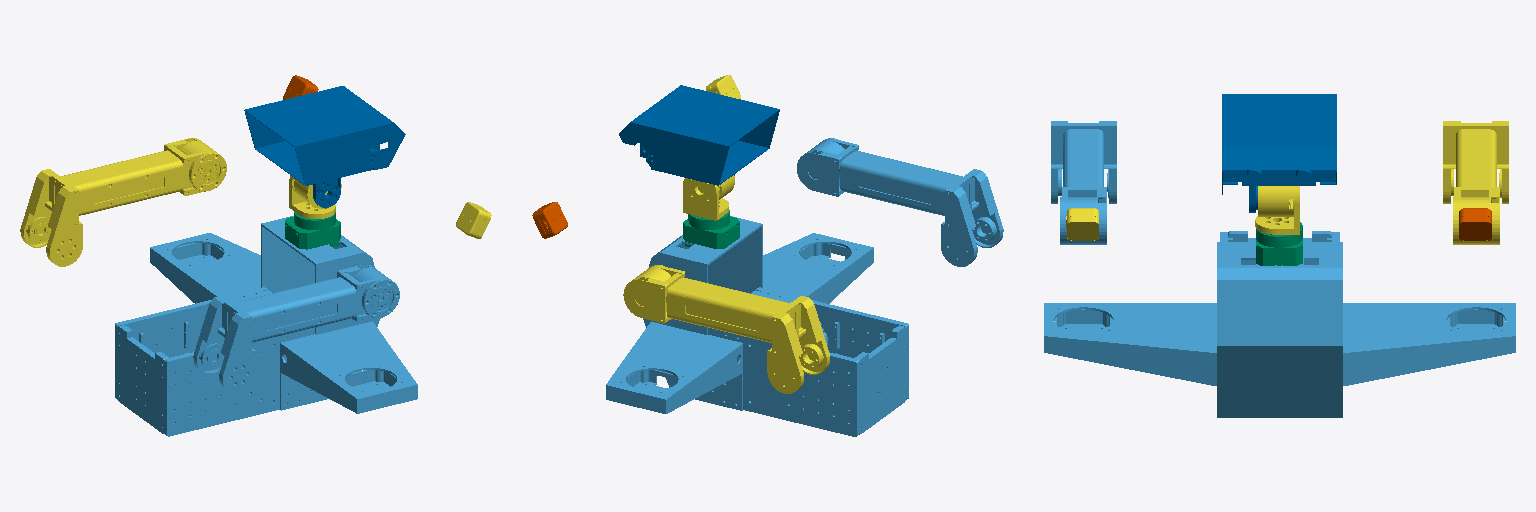
The robot description file, URDF, robot "arx_lift":
<?xml version="1.0" ?>
<!-- =================================================================================== -->
<!-- |    This document was autogenerated by xacro from robot.xacro                    | -->
<!-- |    EDITING THIS FILE BY HAND IS NOT RECOMMENDED                                 | -->
<!-- =================================================================================== -->
<robot name="arx_lift">
  <link name="left_base_link">
    <inertial>
      <origin xyz="-0.00013359 6.672E-05 0.031672"/>
      <mass value="0.42272"/>
      <inertia ixx="0.00019" ixy="0.00000" ixz="0.00000" iyy="0.00019" iyz="0.00000" izz="0.00020"/>
    </inertial>
    <visual>
      <geometry>
        <mesh filename="package://arx5_description/meshes/r5/base_link.obj"/>
      </geometry>
    </visual>
    <collision>
      <geometry>
        <mesh filename="package://arx5_description/meshes/r5/base_link.obj"/>
      </geometry>
    </collision>
  </link>
  <link name="left_link1">
    <inertial>
      <origin xyz="0.0050395 -0.0077407 0.020897"/>
      <mass value="0.096804"/>
      <inertia ixx="0.00011" ixy="-0.00001" ixz="0.00001" iyy="0.00005" iyz="-0.00001" izz="0.00010"/>
    </inertial>
    <visual>
      <geometry>
        <mesh filename="package://arx5_description/meshes/r5/link1.obj"/>
      </geometry>
    </visual>
    <collision>
      <geometry>
        <mesh filename="package://arx5_description/meshes/r5/link1.obj"/>
      </geometry>
    </collision>
  </link>
  <joint name="left_joint1" type="revolute">
    <origin xyz="0 0 0.0565"/>
    <parent link="left_base_link"/>
    <child link="left_link1"/>
    <axis xyz="0 0 1"/>
    <limit effort="100" lower="-2.618" upper="2.168" velocity="5"/>
  </joint>
  <link name="left_link2">
    <inertial>
      <origin xyz="-0.12992 -0.0011822 -2.6366E-05"/>
      <mass value="1.1988"/>
      <inertia ixx="0.00065" ixy="0.00008" ixz="0.00000" iyy="0.01647" iyz="0.00000" izz="0.01646"/>
    </inertial>
    <visual>
      <geometry>
        <mesh filename="package://arx5_description/meshes/r5/link2.obj"/>
      </geometry>
    </visual>
    <collision>
      <geometry>
        <mesh filename="package://arx5_description/meshes/r5/link2.obj"/>
      </geometry>
    </collision>
  </link>
  <joint name="left_joint2" type="revolute">
    <origin xyz="0.02 0 0.047"/>
    <parent link="left_link1"/>
    <child link="left_link2"/>
    <axis xyz="0 1 0"/>
    <limit effort="100" lower="0" upper="3.66" velocity="5"/>
  </joint>
  <link name="left_link3">
    <inertial>
      <origin xyz="0.16181 0.0011723 -0.05455"/>
      <mass value="0.84082"/>
      <inertia ixx="0.00082" ixy="0.00008" ixz="-0.00074" iyy="0.00849" iyz="0.00001" izz="0.00834"/>
    </inertial>
    <visual>
      <geometry>
        <mesh filename="package://arx5_description/meshes/r5/link3.obj"/>
      </geometry>
    </visual>
    <collision>
      <geometry>
        <mesh filename="package://arx5_description/meshes/r5/link3.obj"/>
      </geometry>
    </collision>
  </link>
  <joint name="left_joint3" type="revolute">
    <origin rpy="-3.1416 0 0" xyz="-0.264 0 0"/>
    <parent link="left_link2"/>
    <child link="left_link3"/>
    <axis xyz="0 1 0"/>
    <limit effort="100" lower="0" upper="3.14" velocity="5"/>
  </joint>
  <link name="left_link4">
    <inertial>
      <origin xyz="0.041751 0.0054236 -0.03337"/>
      <mass value="0.12432"/>
      <inertia ixx="0.00022" ixy="-0.00002" ixz="-0.00009" iyy="0.00025" iyz="0.00002" izz="0.00017"/>
    </inertial>
    <visual>
      <geometry>
        <mesh filename="package://arx5_description/meshes/r5/link4.obj"/>
      </geometry>
    </visual>
    <collision>
      <geometry>
        <mesh filename="package://arx5_description/meshes/r5/link4.obj"/>
      </geometry>
    </collision>
  </link>
  <joint name="left_joint4" type="revolute">
    <origin xyz="0.245 -5E-05 -0.06"/>
    <parent link="left_link3"/>
    <child link="left_link4"/>
    <axis xyz="0 1 0"/>
    <limit effort="100" lower="-1.57" upper="1.57" velocity="5"/>
  </joint>
  <link name="left_link5">
    <inertial>
      <origin xyz="-8.3435E-05 -1.5428E-05 0.052216"/>
      <mass value="0.63601"/>
      <inertia ixx="0.00084" ixy="0.00000" ixz="0.00007" iyy="0.00082" iyz="0.00000" izz="0.00026"/>
    </inertial>
    <visual>
      <geometry>
        <mesh filename="package://arx5_description/meshes/r5/link5.obj"/>
      </geometry>
    </visual>
    <collision>
      <geometry>
        <mesh filename="package://arx5_description/meshes/r5/link5.obj"/>
      </geometry>
    </collision>
  </link>
  <joint name="left_joint5" type="revolute">
    <origin xyz="0.0702 5E-05 -0.083391"/>
    <parent link="left_link4"/>
    <child link="left_link5"/>
    <axis xyz="0 0 1"/>
    <limit effort="100" lower="-1.57" upper="1.57" velocity="5"/>
  </joint>
  <link name="left_link6">
    <inertial>
      <origin xyz="0.041697 2.4368E-05 0.00014464"/>
      <mass value="0.44089"/>
      <inertia ixx="0.00038" ixy="0.00000" ixz="0.00000" iyy="0.00028" iyz="0.00000" izz="0.00050"/>
    </inertial>
    <visual>
      <geometry>
        <mesh filename="package://arx5_description/meshes/r5/link6.obj"/>
      </geometry>
    </visual>
    <collision>
      <geometry>
        <mesh filename="package://arx5_description/meshes/r5/link6.obj"/>
      </geometry>
    </collision>
  </link>
  <joint name="left_joint6" type="revolute">
    <origin rpy="3.1416 0 0" xyz="0.025286 0 0.083391"/>
    <parent link="left_link5"/>
    <child link="left_link6"/>
    <axis xyz="1 0 0"/>
    <limit effort="100" lower="-1.57" upper="1.57" velocity="5"/>
  </joint>
  <link name="left_link7">
    <inertial>
      <origin xyz="-0.00035522 -0.007827 -0.0029883"/>
      <mass value="0.064798"/>
      <inertia ixx="0.00002" ixy="0.00000" ixz="0.00000" iyy="0.00003" iyz="0.00000" izz="0.00003"/>
    </inertial>
    <visual>
      <geometry>
        <mesh filename="package://arx5_description/meshes/r5/link7.obj"/>
      </geometry>
    </visual>
    <collision>
      <geometry>
        <mesh filename="package://arx5_description/meshes/r5/link7.obj"/>
      </geometry>
    </collision>
  </link>
  <joint name="left_gripper_joint" type="prismatic">
    <origin xyz="0.08657 0.024896 -0.0002436"/>
    <parent link="left_link6"/>
    <child link="left_link7"/>
    <axis xyz="0 1 0"/>
    <limit effort="100" lower="0" upper="0.044" velocity="5"/>
  </joint>
  <link name="left_link8">
    <inertial>
      <origin xyz="-0.000355223470270755 0.00782768751820277 0.00242005642879778"/>
      <mass value="0.0647981725781684"/>
      <inertia ixx="0.00002" ixy="0.00000" ixz="0.00000" iyy="0.00003" iyz="0.00000" izz="0.00003"/>
    </inertial>
    <visual>
      <geometry>
        <mesh filename="package://arx5_description/meshes/r5/link8.obj"/>
      </geometry>
    </visual>
    <collision>
      <geometry>
        <mesh filename="package://arx5_description/meshes/r5/link8.obj"/>
      </geometry>
    </collision>
  </link>
  <joint name="left_joint8" type="prismatic">
    <origin xyz="0.08657 -0.0249 -0.00024366"/>
    <parent link="left_link6"/>
    <child link="left_link8"/>
    <axis xyz="0 -1 0"/>
    <limit effort="100" lower="0" upper="0.044" velocity="5"/>
    <mimic joint="left_gripper_joint" multiplier="1" offset="0"/>
  </joint>
  <link name="left_gripper_center"/>
  <joint name="left_gripper_center_fixed" type="fixed">
    <parent link="left_link6"/>
    <child link="left_gripper_center"/>
    <origin xyz="0.08657 0 0"/>
  </joint>
  <link name="left_left_pad"/>
  <joint name="left_left_pad_joint" type="fixed">
    <parent link="left_link7"/>
    <child link="left_left_pad"/>
    <origin xyz="0.05843 -0.0249 0"/>
  </joint>
  <link name="left_right_pad"/>
  <joint name="left_right_pad_joint" type="fixed">
    <parent link="left_link8"/>
    <child link="left_right_pad"/>
    <origin xyz="0.05843 0.0249 0"/>
  </joint>
  <link name="left_camera_support">
    <visual>
      <geometry>
        <mesh filename="package://arx5_description/meshes/camera_support.obj"/>
      </geometry>
    </visual>
  </link>
  <joint name="left_camera_support_fixed" type="fixed">
    <parent link="left_link6"/>
    <child link="left_camera_support"/>
    <origin xyz="0.045 0 0.021"/>
  </joint>
  <link name="left_camera">
    <visual>
      <geometry>
        <mesh filename="package://arx5_description/meshes/d405.obj"/>
      </geometry>
    </visual>
  </link>
  <joint name="left_camera_fixed" type="fixed">
    <origin rpy="0 0.523 0" xyz="0.0385 0 0.0475"/>
    <parent link="left_camera_support"/>
    <child link="left_camera"/>
  </joint>
  <link name="right_base_link">
    <inertial>
      <origin xyz="-0.00013359 6.672E-05 0.031672"/>
      <mass value="0.42272"/>
      <inertia ixx="0.00019" ixy="0.00000" ixz="0.00000" iyy="0.00019" iyz="0.00000" izz="0.00020"/>
    </inertial>
    <visual>
      <geometry>
        <mesh filename="package://arx5_description/meshes/r5/base_link.obj"/>
      </geometry>
    </visual>
    <collision>
      <geometry>
        <mesh filename="package://arx5_description/meshes/r5/base_link.obj"/>
      </geometry>
    </collision>
  </link>
  <link name="right_link1">
    <inertial>
      <origin xyz="0.0050395 -0.0077407 0.020897"/>
      <mass value="0.096804"/>
      <inertia ixx="0.00011" ixy="-0.00001" ixz="0.00001" iyy="0.00005" iyz="-0.00001" izz="0.00010"/>
    </inertial>
    <visual>
      <geometry>
        <mesh filename="package://arx5_description/meshes/r5/link1.obj"/>
      </geometry>
    </visual>
    <collision>
      <geometry>
        <mesh filename="package://arx5_description/meshes/r5/link1.obj"/>
      </geometry>
    </collision>
  </link>
  <joint name="right_joint1" type="revolute">
    <origin xyz="0 0 0.0565"/>
    <parent link="right_base_link"/>
    <child link="right_link1"/>
    <axis xyz="0 0 1"/>
    <limit effort="100" lower="-2.618" upper="2.168" velocity="5"/>
  </joint>
  <link name="right_link2">
    <inertial>
      <origin xyz="-0.12992 -0.0011822 -2.6366E-05"/>
      <mass value="1.1988"/>
      <inertia ixx="0.00065" ixy="0.00008" ixz="0.00000" iyy="0.01647" iyz="0.00000" izz="0.01646"/>
    </inertial>
    <visual>
      <geometry>
        <mesh filename="package://arx5_description/meshes/r5/link2.obj"/>
      </geometry>
    </visual>
    <collision>
      <geometry>
        <mesh filename="package://arx5_description/meshes/r5/link2.obj"/>
      </geometry>
    </collision>
  </link>
  <joint name="right_joint2" type="revolute">
    <origin xyz="0.02 0 0.047"/>
    <parent link="right_link1"/>
    <child link="right_link2"/>
    <axis xyz="0 1 0"/>
    <limit effort="100" lower="0" upper="3.66" velocity="5"/>
  </joint>
  <link name="right_link3">
    <inertial>
      <origin xyz="0.16181 0.0011723 -0.05455"/>
      <mass value="0.84082"/>
      <inertia ixx="0.00082" ixy="0.00008" ixz="-0.00074" iyy="0.00849" iyz="0.00001" izz="0.00834"/>
    </inertial>
    <visual>
      <geometry>
        <mesh filename="package://arx5_description/meshes/r5/link3.obj"/>
      </geometry>
    </visual>
    <collision>
      <geometry>
        <mesh filename="package://arx5_description/meshes/r5/link3.obj"/>
      </geometry>
    </collision>
  </link>
  <joint name="right_joint3" type="revolute">
    <origin rpy="-3.1416 0 0" xyz="-0.264 0 0"/>
    <parent link="right_link2"/>
    <child link="right_link3"/>
    <axis xyz="0 1 0"/>
    <limit effort="100" lower="0" upper="3.14" velocity="5"/>
  </joint>
  <link name="right_link4">
    <inertial>
      <origin xyz="0.041751 0.0054236 -0.03337"/>
      <mass value="0.12432"/>
      <inertia ixx="0.00022" ixy="-0.00002" ixz="-0.00009" iyy="0.00025" iyz="0.00002" izz="0.00017"/>
    </inertial>
    <visual>
      <geometry>
        <mesh filename="package://arx5_description/meshes/r5/link4.obj"/>
      </geometry>
    </visual>
    <collision>
      <geometry>
        <mesh filename="package://arx5_description/meshes/r5/link4.obj"/>
      </geometry>
    </collision>
  </link>
  <joint name="right_joint4" type="revolute">
    <origin xyz="0.245 -5E-05 -0.06"/>
    <parent link="right_link3"/>
    <child link="right_link4"/>
    <axis xyz="0 1 0"/>
    <limit effort="100" lower="-1.57" upper="1.57" velocity="5"/>
  </joint>
  <link name="right_link5">
    <inertial>
      <origin xyz="-8.3435E-05 -1.5428E-05 0.052216"/>
      <mass value="0.63601"/>
      <inertia ixx="0.00084" ixy="0.00000" ixz="0.00007" iyy="0.00082" iyz="0.00000" izz="0.00026"/>
    </inertial>
    <visual>
      <geometry>
        <mesh filename="package://arx5_description/meshes/r5/link5.obj"/>
      </geometry>
    </visual>
    <collision>
      <geometry>
        <mesh filename="package://arx5_description/meshes/r5/link5.obj"/>
      </geometry>
    </collision>
  </link>
  <joint name="right_joint5" type="revolute">
    <origin xyz="0.0702 5E-05 -0.083391"/>
    <parent link="right_link4"/>
    <child link="right_link5"/>
    <axis xyz="0 0 1"/>
    <limit effort="100" lower="-1.57" upper="1.57" velocity="5"/>
  </joint>
  <link name="right_link6">
    <inertial>
      <origin xyz="0.041697 2.4368E-05 0.00014464"/>
      <mass value="0.44089"/>
      <inertia ixx="0.00038" ixy="0.00000" ixz="0.00000" iyy="0.00028" iyz="0.00000" izz="0.00050"/>
    </inertial>
    <visual>
      <geometry>
        <mesh filename="package://arx5_description/meshes/r5/link6.obj"/>
      </geometry>
    </visual>
    <collision>
      <geometry>
        <mesh filename="package://arx5_description/meshes/r5/link6.obj"/>
      </geometry>
    </collision>
  </link>
  <joint name="right_joint6" type="revolute">
    <origin rpy="3.1416 0 0" xyz="0.025286 0 0.083391"/>
    <parent link="right_link5"/>
    <child link="right_link6"/>
    <axis xyz="1 0 0"/>
    <limit effort="100" lower="-1.57" upper="1.57" velocity="5"/>
  </joint>
  <link name="right_link7">
    <inertial>
      <origin xyz="-0.00035522 -0.007827 -0.0029883"/>
      <mass value="0.064798"/>
      <inertia ixx="0.00002" ixy="0.00000" ixz="0.00000" iyy="0.00003" iyz="0.00000" izz="0.00003"/>
    </inertial>
    <visual>
      <geometry>
        <mesh filename="package://arx5_description/meshes/r5/link7.obj"/>
      </geometry>
    </visual>
    <collision>
      <geometry>
        <mesh filename="package://arx5_description/meshes/r5/link7.obj"/>
      </geometry>
    </collision>
  </link>
  <joint name="right_gripper_joint" type="prismatic">
    <origin xyz="0.08657 0.024896 -0.0002436"/>
    <parent link="right_link6"/>
    <child link="right_link7"/>
    <axis xyz="0 1 0"/>
    <limit effort="100" lower="0" upper="0.044" velocity="5"/>
  </joint>
  <link name="right_link8">
    <inertial>
      <origin xyz="-0.000355223470270755 0.00782768751820277 0.00242005642879778"/>
      <mass value="0.0647981725781684"/>
      <inertia ixx="0.00002" ixy="0.00000" ixz="0.00000" iyy="0.00003" iyz="0.00000" izz="0.00003"/>
    </inertial>
    <visual>
      <geometry>
        <mesh filename="package://arx5_description/meshes/r5/link8.obj"/>
      </geometry>
    </visual>
    <collision>
      <geometry>
        <mesh filename="package://arx5_description/meshes/r5/link8.obj"/>
      </geometry>
    </collision>
  </link>
  <joint name="right_joint8" type="prismatic">
    <origin xyz="0.08657 -0.0249 -0.00024366"/>
    <parent link="right_link6"/>
    <child link="right_link8"/>
    <axis xyz="0 -1 0"/>
    <limit effort="100" lower="0" upper="0.044" velocity="5"/>
    <mimic joint="right_gripper_joint" multiplier="1" offset="0"/>
  </joint>
  <link name="right_gripper_center"/>
  <joint name="right_gripper_center_fixed" type="fixed">
    <parent link="right_link6"/>
    <child link="right_gripper_center"/>
    <origin xyz="0.08657 0 0"/>
  </joint>
  <link name="right_left_pad"/>
  <joint name="right_left_pad_joint" type="fixed">
    <parent link="right_link7"/>
    <child link="right_left_pad"/>
    <origin xyz="0.05843 -0.0249 0"/>
  </joint>
  <link name="right_right_pad"/>
  <joint name="right_right_pad_joint" type="fixed">
    <parent link="right_link8"/>
    <child link="right_right_pad"/>
    <origin xyz="0.05843 0.0249 0"/>
  </joint>
  <link name="right_camera_support">
    <visual>
      <geometry>
        <mesh filename="package://arx5_description/meshes/camera_support.obj"/>
      </geometry>
    </visual>
  </link>
  <joint name="right_camera_support_fixed" type="fixed">
    <parent link="right_link6"/>
    <child link="right_camera_support"/>
    <origin xyz="0.045 0 0.021"/>
  </joint>
  <link name="right_camera">
    <visual>
      <geometry>
        <mesh filename="package://arx5_description/meshes/d405.obj"/>
      </geometry>
    </visual>
  </link>
  <joint name="right_camera_fixed" type="fixed">
    <origin rpy="0 0.523 0" xyz="0.0385 0 0.0475"/>
    <parent link="right_camera_support"/>
    <child link="right_camera"/>
  </joint>
  <link name="base_link"/>
  <joint name="base_joint" type="fixed">
    <origin rpy="0 0 3.14159"/>
    <parent link="base_link"/>
    <child link="base"/>
  </joint>
  <link name="base">
    <inertial>
      <origin xyz="0.015300075250394498 -0.0039712791148939055 0.21685783167580347"/>
      <mass value="67.7696558151508"/>
      <inertia ixx="7.900786" ixy="-0.021075" ixz="0.25289" iyy="8.068966" iyz="0.12408" izz="2.254894"/>
    </inertial>
    <visual>
      <geometry>
        <mesh filename="package://arx_lift_description/meshes/base_link.obj"/>
      </geometry>
    </visual>
    <collision>
      <geometry>
        <mesh filename="package://arx_lift_description/meshes/base_link.obj"/>
      </geometry>
    </collision>
  </link>
  <link name="wheel_1">
    <inertial>
      <origin xyz="-0.0013052205916280202 0.0022598671755268973 1.318970376112949e-07"/>
      <mass value="4.24803000494366"/>
      <inertia ixx="0.008031" ixy="-0.002428" ixz="0.0" iyy="0.010834" iyz="0.0" izz="0.006629"/>
    </inertial>
  </link>
  <link name="wheel_2">
    <inertial>
      <origin xyz="-0.0013052205916208315 -0.0022598671755325594 -1.318970357273852e-07"/>
      <mass value="4.24803000494366"/>
      <inertia ixx="0.008031" ixy="0.002428" ixz="-0.0" iyy="0.010834" iyz="0.0" izz="0.006629"/>
    </inertial>
  </link>
  <link name="wheel_3">
    <inertial>
      <origin xyz="0.0026089441594678298 -1.3189703553351252e-07 2.8695680726054107e-07"/>
      <mass value="4.24803000494366"/>
      <inertia ixx="0.012235" ixy="-0.0" ixz="0.0" iyy="0.006629" iyz="0.0" izz="0.006629"/>
    </inertial>
  </link>
  <joint name="joint_wheel1" type="fixed">
    <origin xyz="-0.182349 0.315838 0.03"/>
    <parent link="base"/>
    <child link="wheel_1"/>
  </joint>
  <joint name="joint_wheel2" type="fixed">
    <origin xyz="-0.182349 -0.315838 0.03"/>
    <parent link="base"/>
    <child link="wheel_2"/>
    <axis xyz="-0.5 -0.866025 0.0"/>
  </joint>
  <joint name="joint_wheel3" type="fixed">
    <origin xyz="0.364699 0.0 0.03"/>
    <parent link="base"/>
    <child link="wheel_3"/>
    <axis xyz="1.0 0.0 -0.0"/>
  </joint>
  <link name="lift_link">
    <inertial>
      <origin xyz="-0.13956899916103924 0 0.07323798891482189"/>
      <mass value="17.38744536890084"/>
      <inertia ixx="0.187458" ixy="-0.000206" ixz="0.023942" iyy="0.178157" iyz="-0.000153" izz="0.29708"/>
    </inertial>
    <visual>
      <geometry>
        <mesh filename="package://arx_lift_description/meshes/lift.obj"/>
      </geometry>
    </visual>
    <collision>
      <geometry>
        <mesh filename="package://arx_lift_description/meshes/lift.obj"/>
      </geometry>
    </collision>
  </link>
  <joint name="joint_lift" type="prismatic">
    <origin xyz="0.022199 0 0.233"/>
    <parent link="base"/>
    <child link="lift_link"/>
    <axis xyz="0.0 0.0 1.0"/>
    <limit effort="100" lower="0.0" upper="0.86" velocity="100"/>
  </joint>
  <link name="h_base_link">
    <inertial>
      <origin xyz="-0.0020743076738515215 -1.5307881645835308e-08 -0.024619861716967787"/>
      <mass value="0.9930933606993821"/>
      <inertia ixx="0.000391" ixy="-0.0" ixz="1.7e-05" iyy="0.000452" iyz="0.0" izz="0.000532"/>
    </inertial>
    <visual>
      <geometry>
        <mesh filename="package://arx_lift_description/meshes/h_base.obj"/>
      </geometry>
    </visual>
    <collision>
      <geometry>
        <mesh filename="package://arx_lift_description/meshes/h_base.obj"/>
      </geometry>
    </collision>
  </link>
  <link name="h_link1_1">
    <inertial>
      <origin xyz="-1.3121512495483172e-08 -0.0017956601536253606 -0.0404485568834118"/>
      <mass value="1.1585686692835446"/>
      <inertia ixx="0.000714" ixy="-0.0" ixz="0.0" iyy="0.000677" iyz="3.4e-05" izz="0.000524"/>
    </inertial>
    <visual>
      <geometry>
        <mesh filename="package://arx_lift_description/meshes/h_link1.obj"/>
      </geometry>
    </visual>
    <collision>
      <geometry>
        <mesh filename="package://arx_lift_description/meshes/h_link1.obj"/>
      </geometry>
    </collision>
  </link>
  <link name="h_link2_1">
    <inertial>
      <origin xyz="0.03081593597576142 -0.022504711493597663 -0.0659240377971316"/>
      <mass value="1.5752562353484625"/>
      <inertia ixx="0.004555" ixy="0.000214" ixz="0.000252" iyy="0.004541" iyz="-0.000299" izz="0.00636"/>
    </inertial>
    <visual>
      <geometry>
        <mesh filename="package://arx_lift_description/meshes/h_link2.obj"/>
      </geometry>
    </visual>
    <collision>
      <geometry>
        <mesh filename="package://arx_lift_description/meshes/h_link2.obj"/>
      </geometry>
    </collision>
  </link>
  <joint name="joint_h_1" type="continuous">
    <origin xyz="0.0 0.0 -0.046"/>
    <parent link="h_base_link"/>
    <child link="h_link1_1"/>
    <axis xyz="0.0 -0.0 1.0"/>
    <limit effort="100" lower="-1.570796" upper="1.570796" velocity="100"/>
  </joint>
  <joint name="joint_h_2" type="continuous">
    <origin xyz="0.0 0.025 -0.047"/>
    <parent link="h_link1_1"/>
    <child link="h_link2_1"/>
    <axis xyz="-0.0 -1.0 0.0"/>
    <limit effort="100" lower="-0.785398" upper="0.785398" velocity="100"/>
  </joint>
  <joint name="h_fixed" type="fixed">
    <parent link="lift_link"/>
    <child link="h_base_link"/>
    <origin rpy="0 3.1415926 0" xyz="-0.258786 0 0.220008"/>
  </joint>
  <joint name="arm_left_fixed" type="fixed">
    <parent link="lift_link"/>
    <child link="left_base_link"/>
    <origin rpy="0 0 3.1415926" xyz="-0.208 -0.25000 0.092"/>
  </joint>
  <joint name="arm_right_fixed" type="fixed">
    <parent link="lift_link"/>
    <child link="right_base_link"/>
    <origin rpy="0 0 3.1415926" xyz="-0.208 0.25000 0.092"/>
  </joint>
</robot>

--- Facts derived from the render (not from the file) ---
The picture shows the robot from 3 angles, left to right: view 1: azimuth 30°, elevation 25°; view 2: azimuth 150°, elevation 25°; view 3: azimuth 270°, elevation 25°; orthographic projection.
Robot: arx_lift — 37 links, 36 joints (12 revolute, 2 continuous, 5 prismatic, 17 fixed); root link base_link; default pose: every joint at zero.
Visible links, largest first — view 1: lift_link, h_link2_1, left_link3, right_link3, h_base_link, h_link1_1, right_camera; view 2: lift_link, left_link3, right_link3, h_link2_1, h_link1_1, h_base_link, left_camera; view 3: lift_link, h_link2_1, right_link3, left_link3, h_link1_1, h_base_link, left_camera, right_camera.
Boxes of the visible links, <box> form: lift_link: <box>115,216,417,436</box>; h_link2_1: <box>244,86,405,207</box>; left_link3: <box>20,138,226,266</box>; right_link3: <box>193,265,399,393</box>; h_base_link: <box>285,212,340,249</box>; h_link1_1: <box>289,175,341,218</box>; right_camera: <box>456,202,491,238</box>; lift_link: <box>606,216,908,436</box>; left_link3: <box>623,265,829,393</box>; right_link3: <box>797,138,1003,266</box>; h_link2_1: <box>619,85,779,185</box>; h_link1_1: <box>683,175,734,220</box>; h_base_link: <box>683,210,739,248</box>; left_camera: <box>532,202,567,238</box>; lift_link: <box>1044,231,1515,417</box>; h_link2_1: <box>1222,94,1336,212</box>; right_link3: <box>1051,121,1116,244</box>; left_link3: <box>1443,121,1508,244</box>; h_link1_1: <box>1255,186,1299,234</box>; h_base_link: <box>1256,222,1302,265</box>; left_camera: <box>1459,208,1491,240</box>; right_camera: <box>1066,208,1098,240</box>.
Size in the robot's own frame: 0.4624 by 0.6 by 0.4123 metres.
8 mesh visuals loaded from 16 distinct referenced files (6 OBJ); not drawn: 19 (reference not matched to a file when rendering).